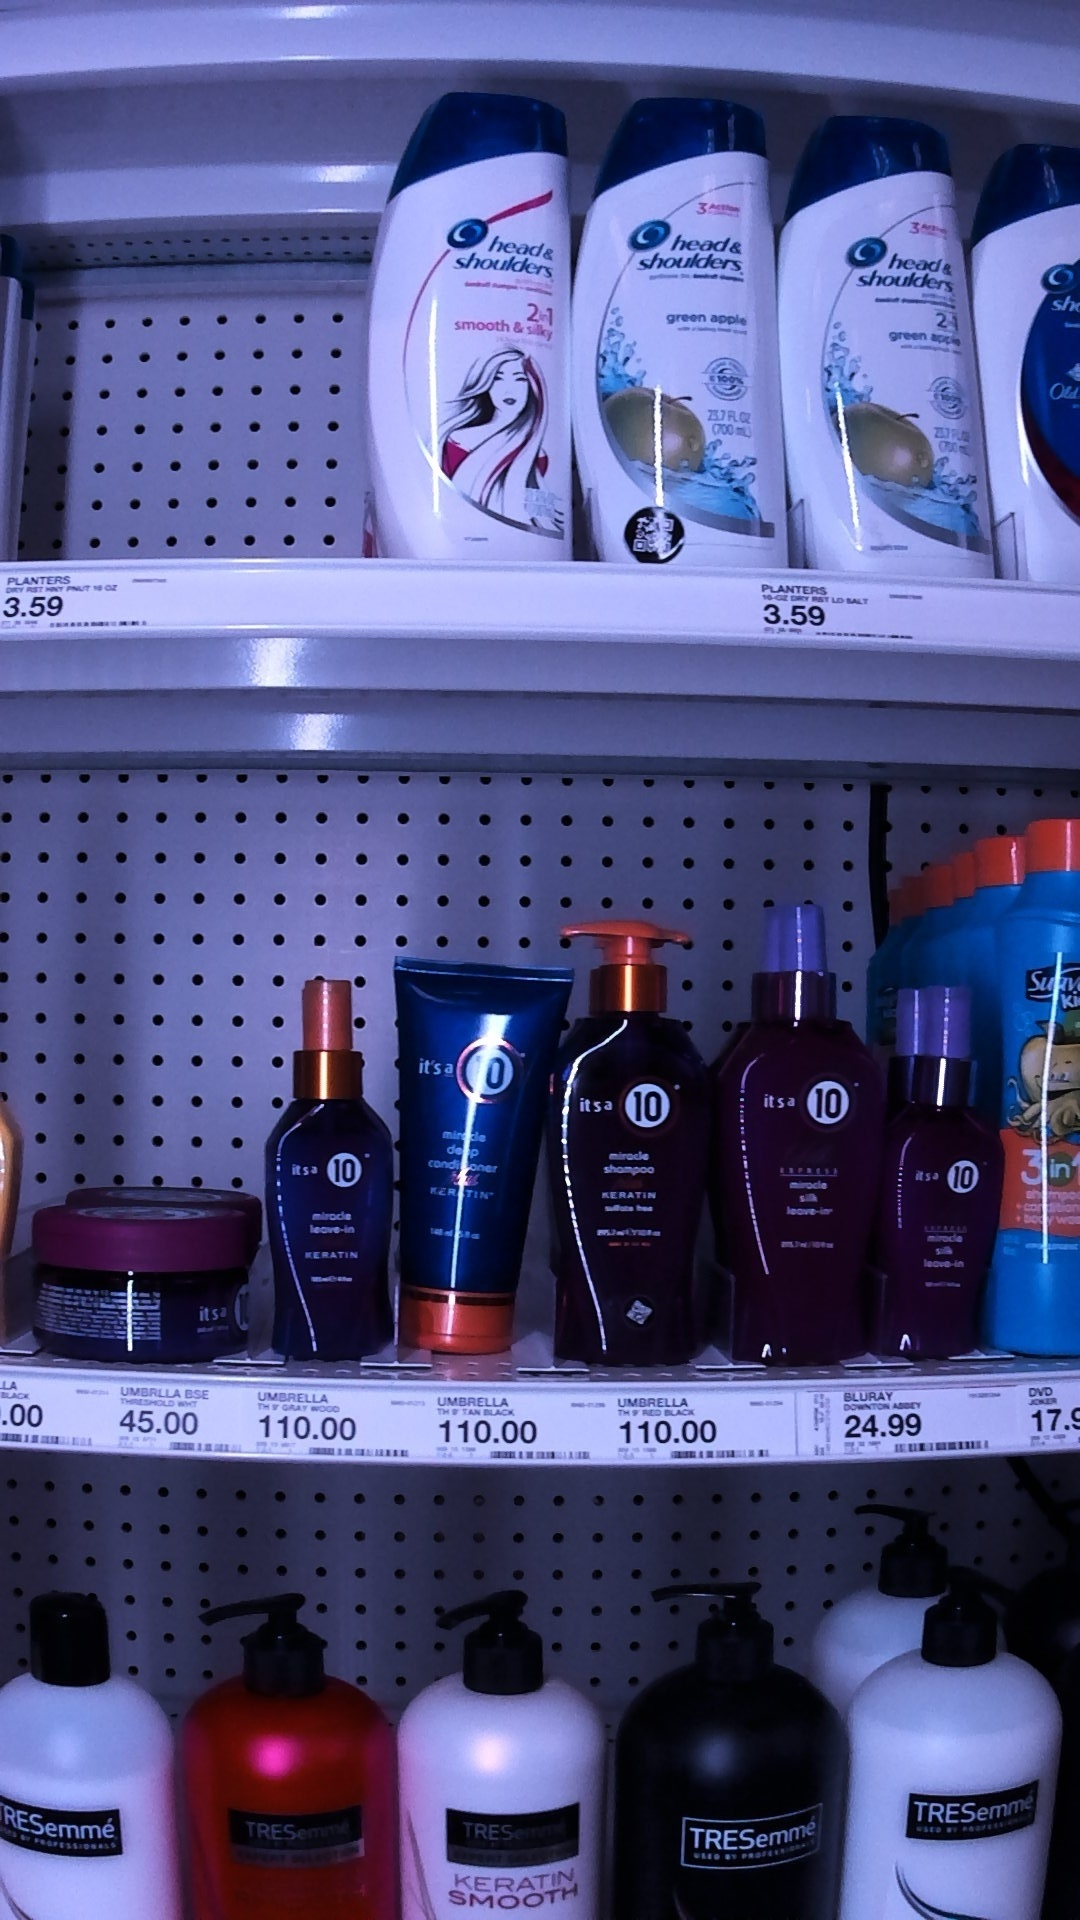ptag: (806, 1379, 992, 1462), (604, 1391, 782, 1477), (756, 575, 945, 649), (258, 1377, 409, 1469), (433, 1386, 585, 1476), (3, 566, 166, 636), (115, 1370, 243, 1451), (1, 1371, 109, 1448)
